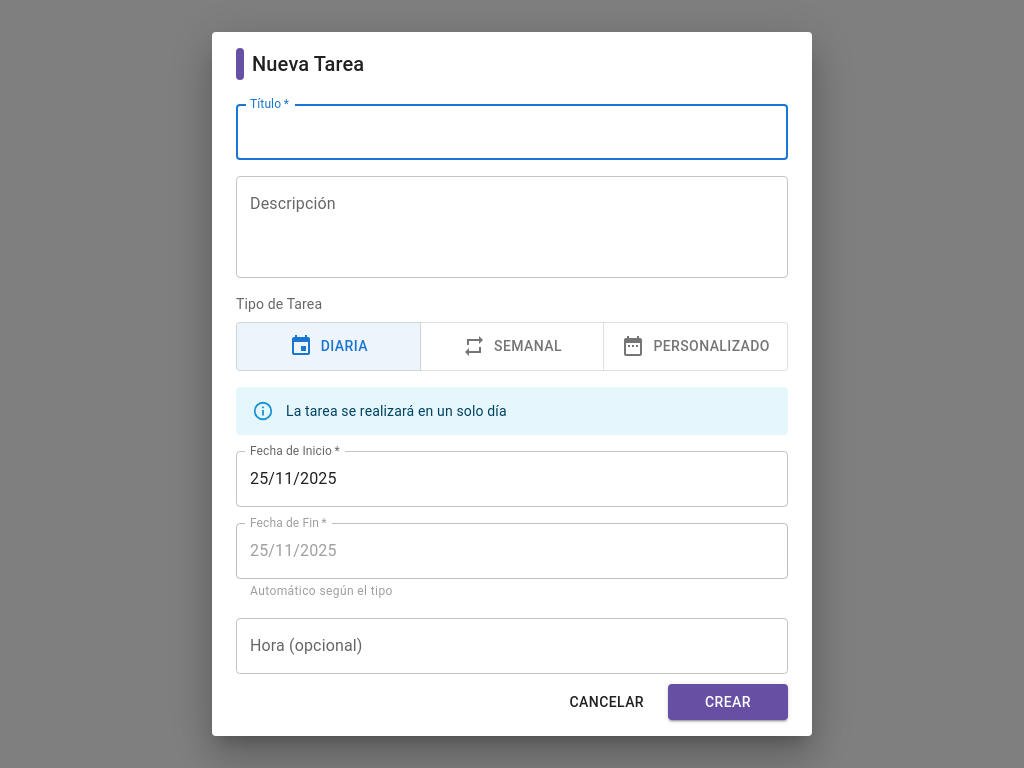
it: TaskForm Component › validates required fields
Click the button "Crear": (728, 702) [668, 684, 788, 720]
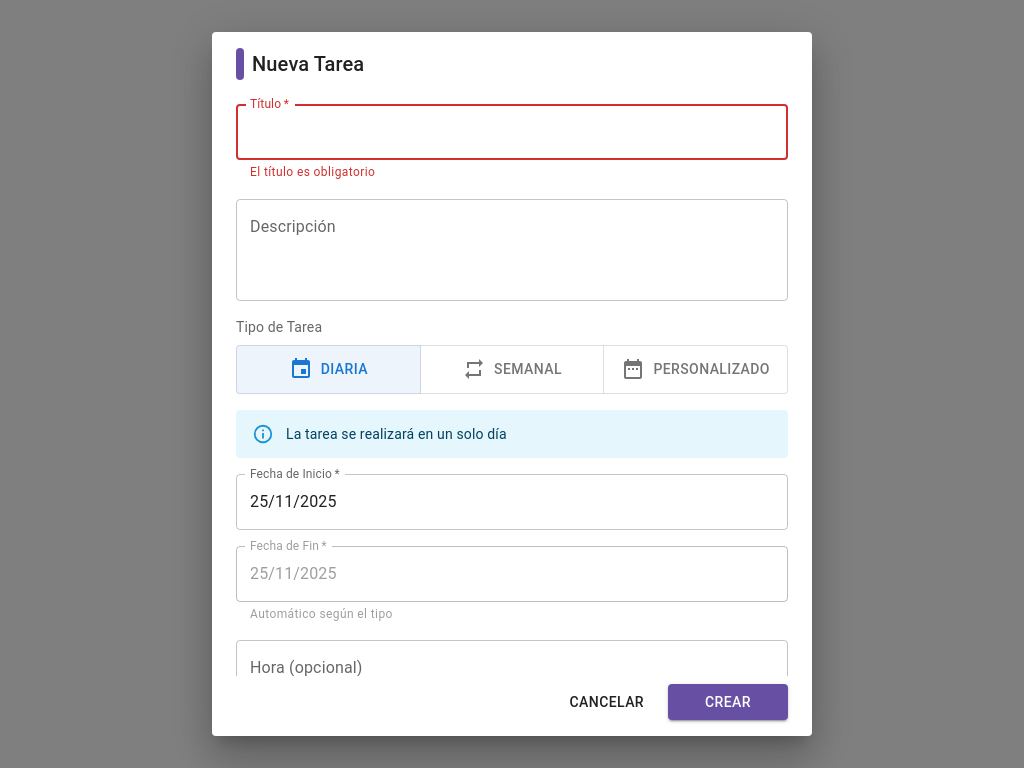
Expected: the text "El título es obligatorio" is shown, [250, 165, 375, 179]
